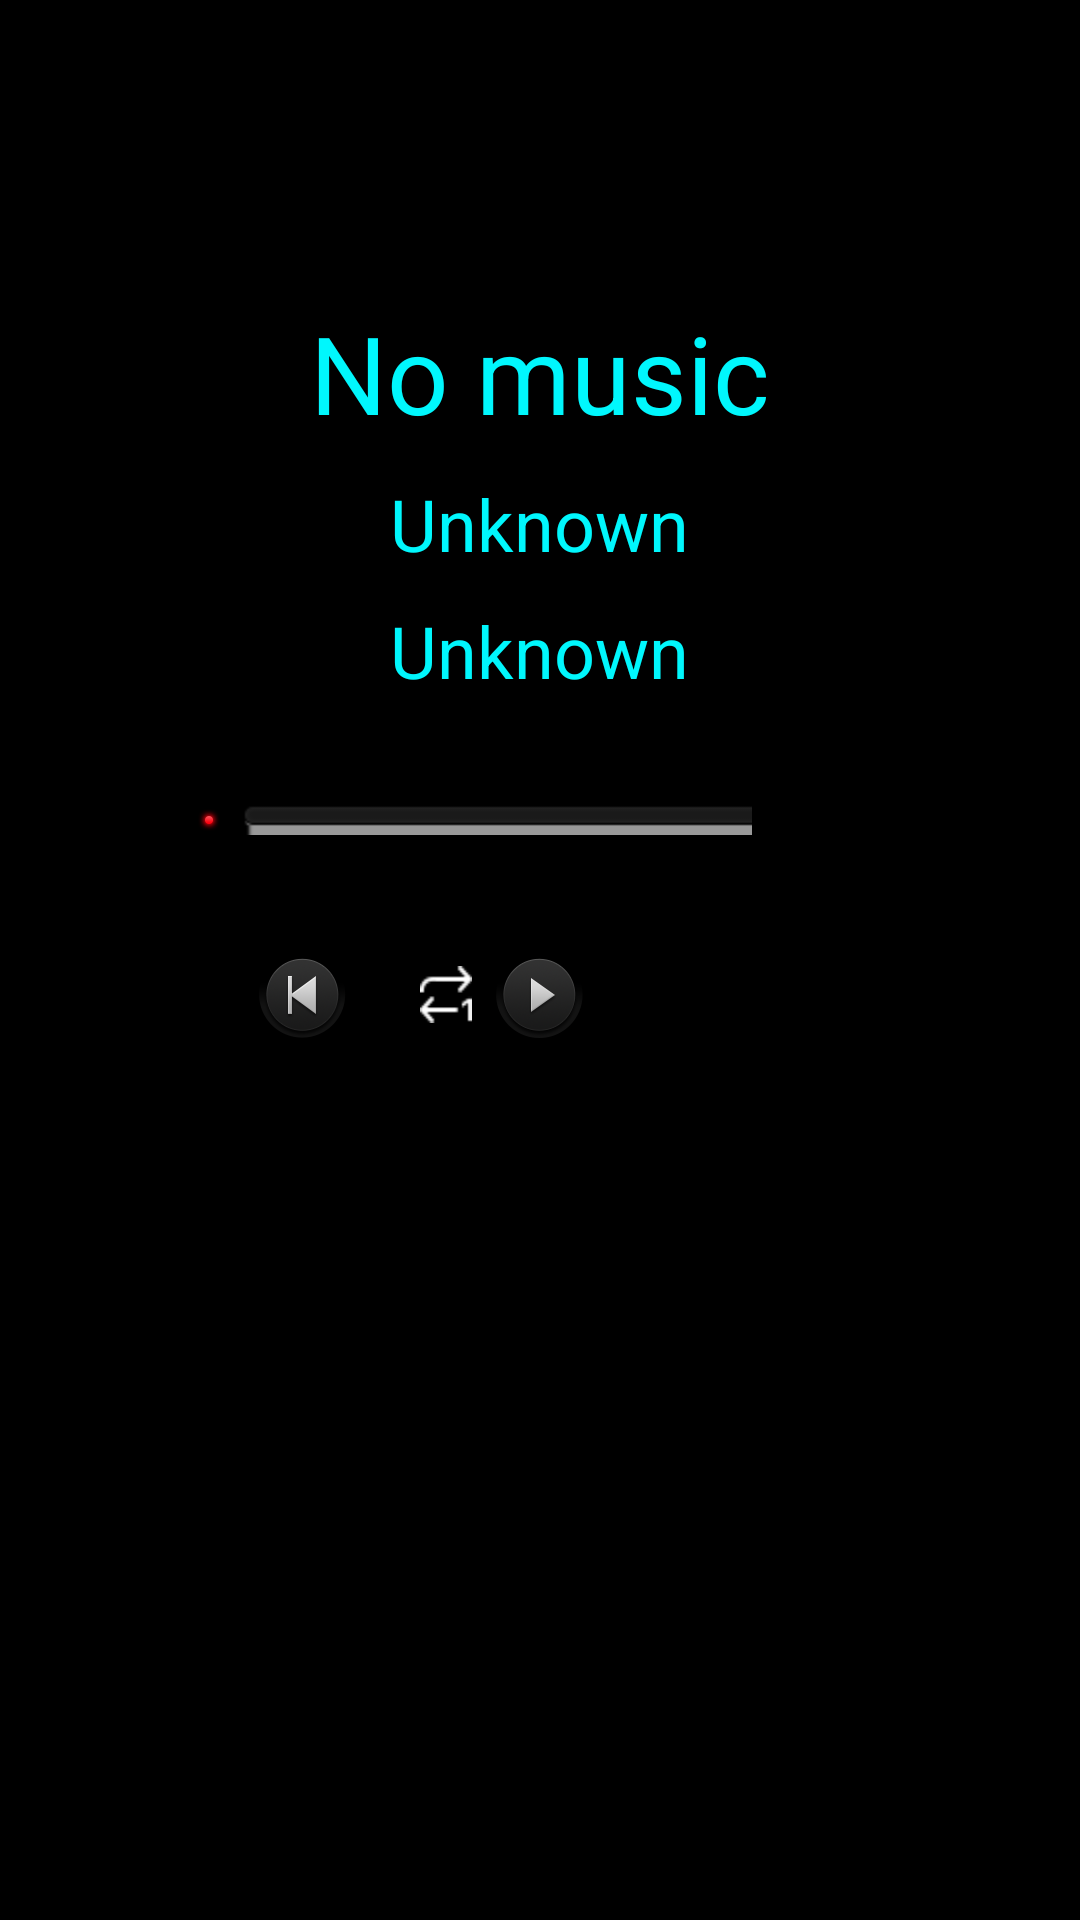

Point at icon controls on the screen. Image size 1080px×1920px, points as (x=x, y=y).
music play: (x=539, y=995)
music pre: (x=302, y=995)
single cycle: (x=446, y=994)
